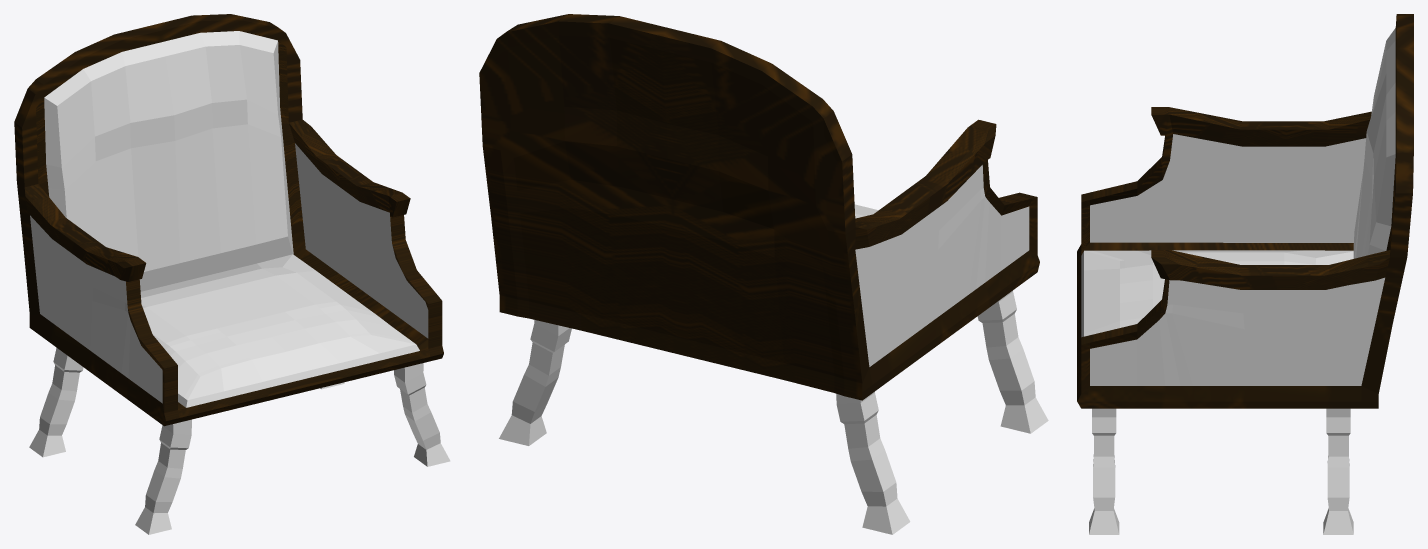
File: MESH_LivingChair.fbx
The picture shows the model from 3 angles, left to right: view 1: azimuth 30°, elevation 25°; view 2: azimuth 150°, elevation 25°; view 3: azimuth 270°, elevation 25°; orthographic projection. The views are drawn at different scales.
Parts seen in each view (by area): view 1: Cube.001, Cube.002; view 2: Cube.001, Cube.002; view 3: Cube.001, Cube.002.
Boxes of the visible parts, <box> form: Cube.001: <box>14,14,443,426</box>; Cube.002: <box>29,347,450,534</box>; Cube.001: <box>479,14,1039,400</box>; Cube.002: <box>499,290,1048,534</box>; Cube.001: <box>1077,14,1413,408</box>; Cube.002: <box>1089,408,1353,534</box>.
Bounding box in the file's own units: 96.42 × 112 × 84.18.
